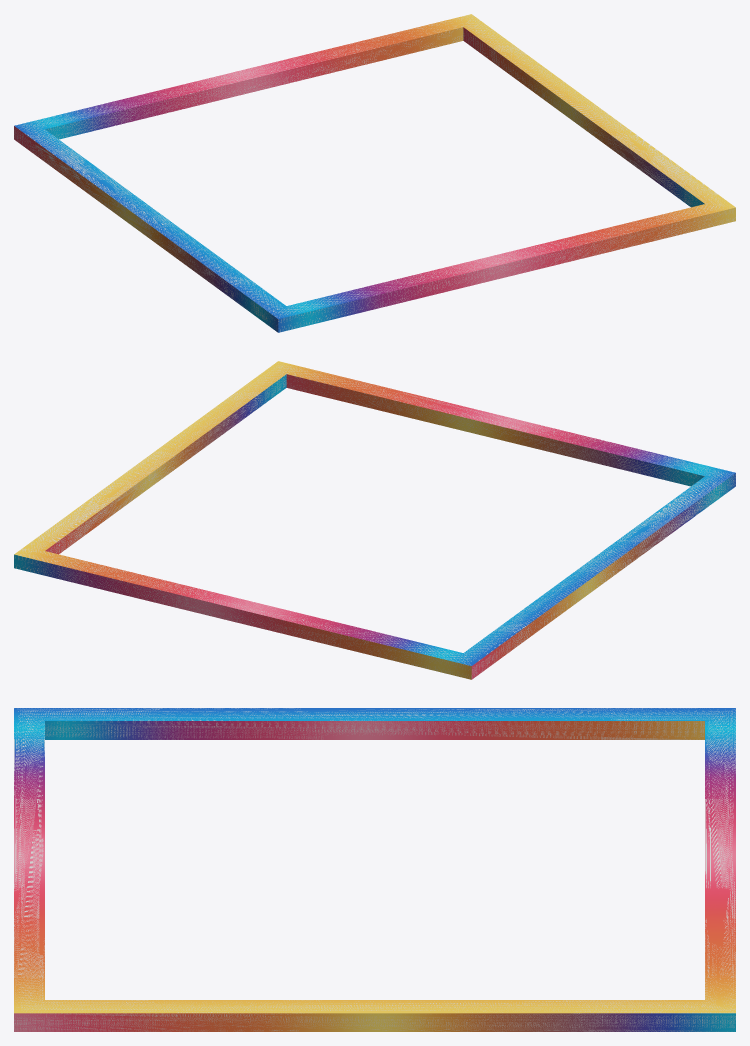
Rendered from fh-square-1.fbx.
3 views of the same model, one above another, from view 1: azimuth 30°, elevation 25°; view 2: azimuth 150°, elevation 25°; view 3: azimuth 270°, elevation 25° (orthographic). The views are drawn at different scales.
Parts seen in each view (by area): view 1: donut3_4_1; view 2: donut3_4_1; view 3: donut3_4_1.
Part boxes in pixels (<box>): donut3_4_1: <box>14,14,735,332</box>; donut3_4_1: <box>14,361,735,679</box>; donut3_4_1: <box>14,708,735,1031</box>.
Bounding box in the file's own units: 700 × 20 × 700.
